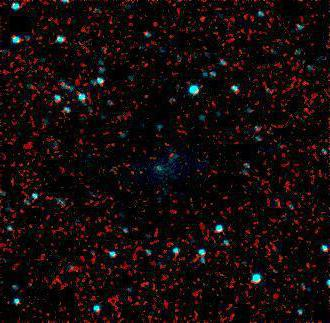star: (189, 5, 219, 35)
